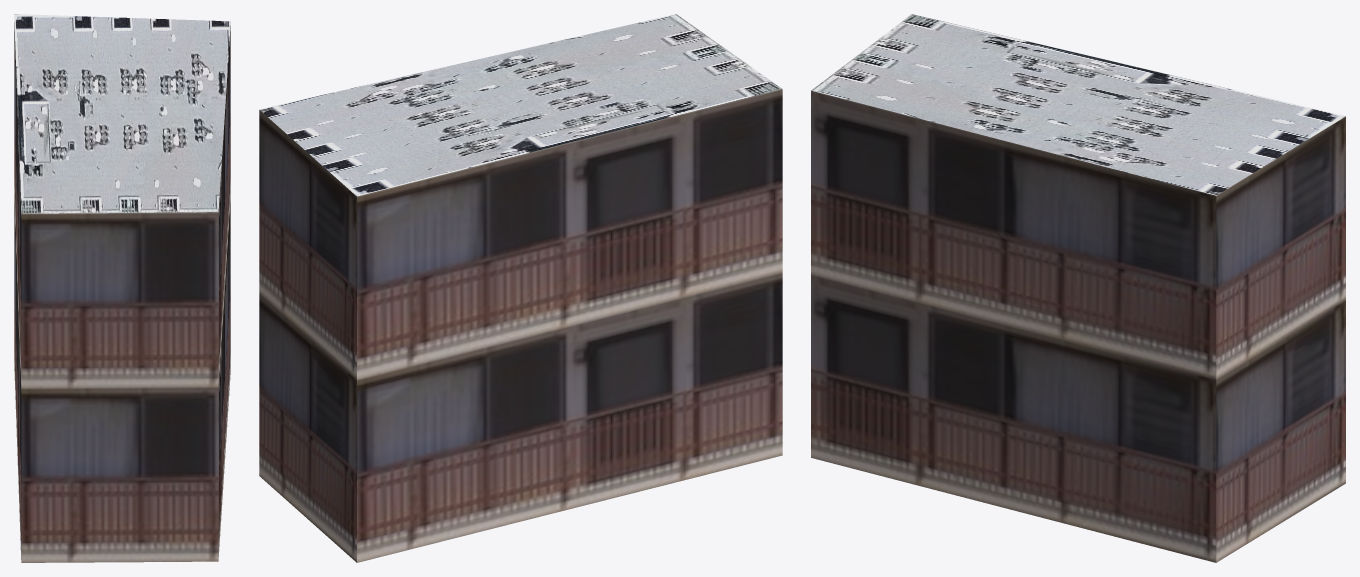
Rendered from ResTex__1242.fbx.
3 views of the same model, side by side, from view 1: azimuth 30°, elevation 25°; view 2: azimuth 150°, elevation 25°; view 3: azimuth 270°, elevation 25° (orthographic). The views are drawn at different scales.
Parts seen in each view (by area): view 1: CityEngineMaterial_6_m, CityEngineMaterial_m; view 2: CityEngineMaterial_6_m, CityEngineMaterial_m; view 3: CityEngineMaterial_6_m, CityEngineMaterial_m.
Boxes of the visible parts, x1,y1,x2,y2 form: CityEngineMaterial_6_m: [14, 22, 230, 562]; CityEngineMaterial_m: [14, 14, 230, 213]; CityEngineMaterial_6_m: [259, 89, 782, 562]; CityEngineMaterial_m: [259, 14, 781, 196]; CityEngineMaterial_6_m: [811, 90, 1345, 562]; CityEngineMaterial_m: [811, 14, 1345, 195].
Size of the model in its own units: 6.37 by 6 by 7.92.
2 materials, 2 textured.
